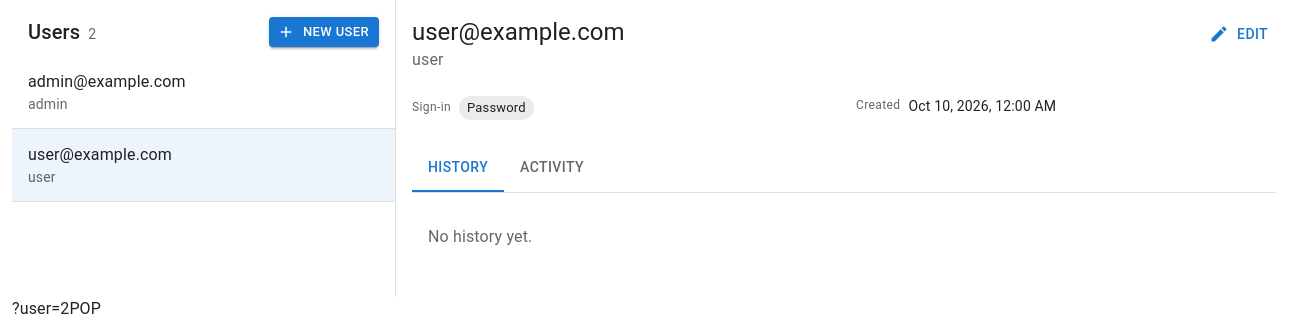
Test case: UsersMasterDetail › records a chosen tab in the URL by replacing the history entry
Step 1. Click the tab "Activity" → coordinates (552, 168), box [504,144,600,192]
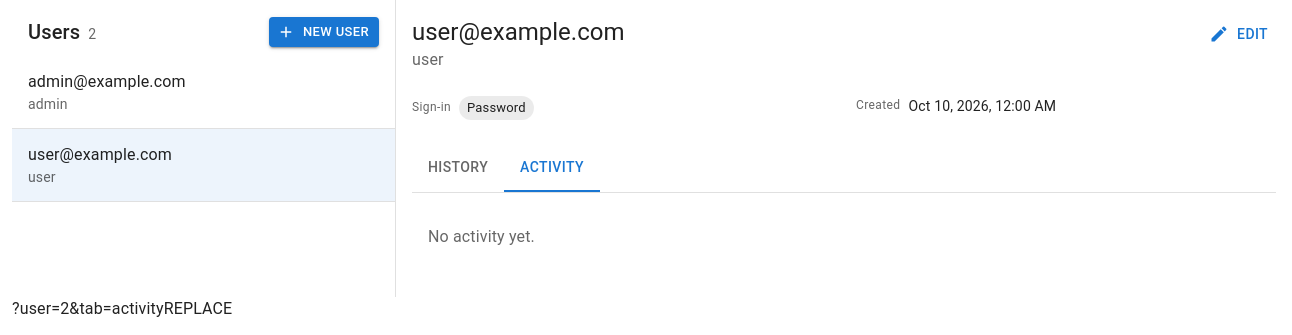
Check: the text named "Search" reads "?user=2&tab=activity", box [12,299,164,318]
Check: the text named "Navigation type" reads "REPLACE", box [164,299,232,318]
